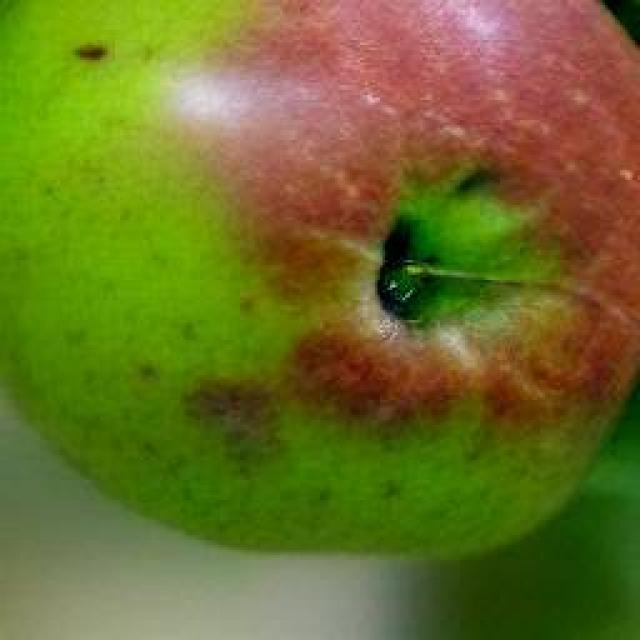defective: (0, 0, 638, 560)
